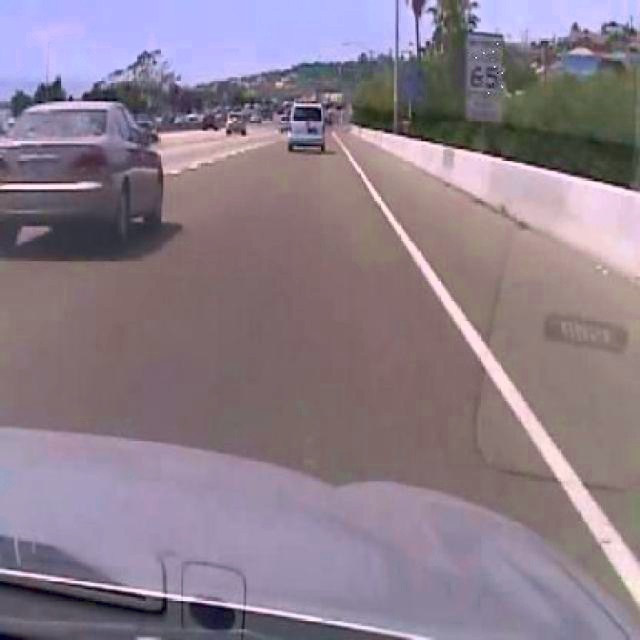speedLimit65: (464, 29, 504, 96)
